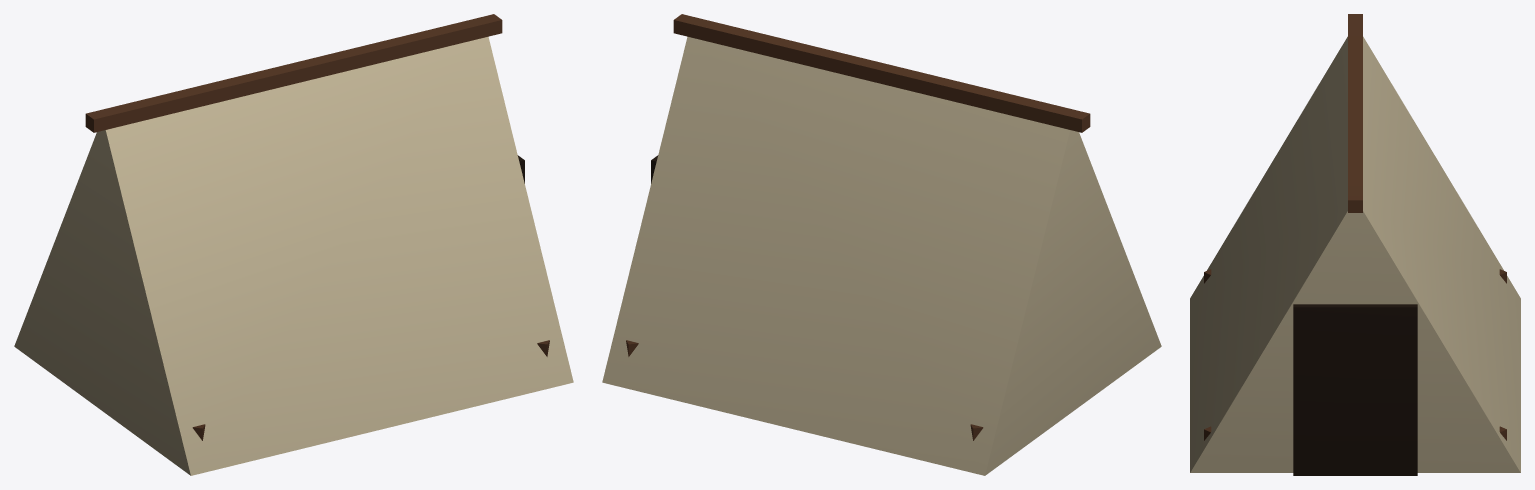
File: independence_tent_lod0.glb
The picture shows the model from 3 angles, left to right: view 1: azimuth 30°, elevation 25°; view 2: azimuth 150°, elevation 25°; view 3: azimuth 270°, elevation 25°; orthographic projection. The views are drawn at different scales.
Visible parts, largest first — view 1: GEO-Arch_independence_tent_LOD0; view 2: GEO-Arch_independence_tent_LOD0; view 3: GEO-Arch_independence_tent_LOD0.
Part boxes in pixels (x1=…): GEO-Arch_independence_tent_LOD0: x1=14, y1=14, x2=573, y2=475; GEO-Arch_independence_tent_LOD0: x1=602, y1=14, x2=1161, y2=475; GEO-Arch_independence_tent_LOD0: x1=1190, y1=14, x2=1520, y2=475.
Bounding box in the file's own units: 3.2 × 2.23 × 2.4.
